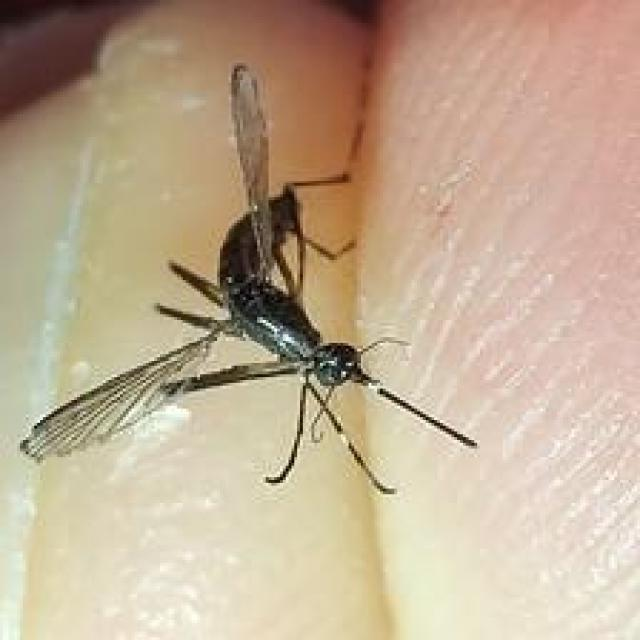Aedes albopictus: (19, 61, 478, 496)
